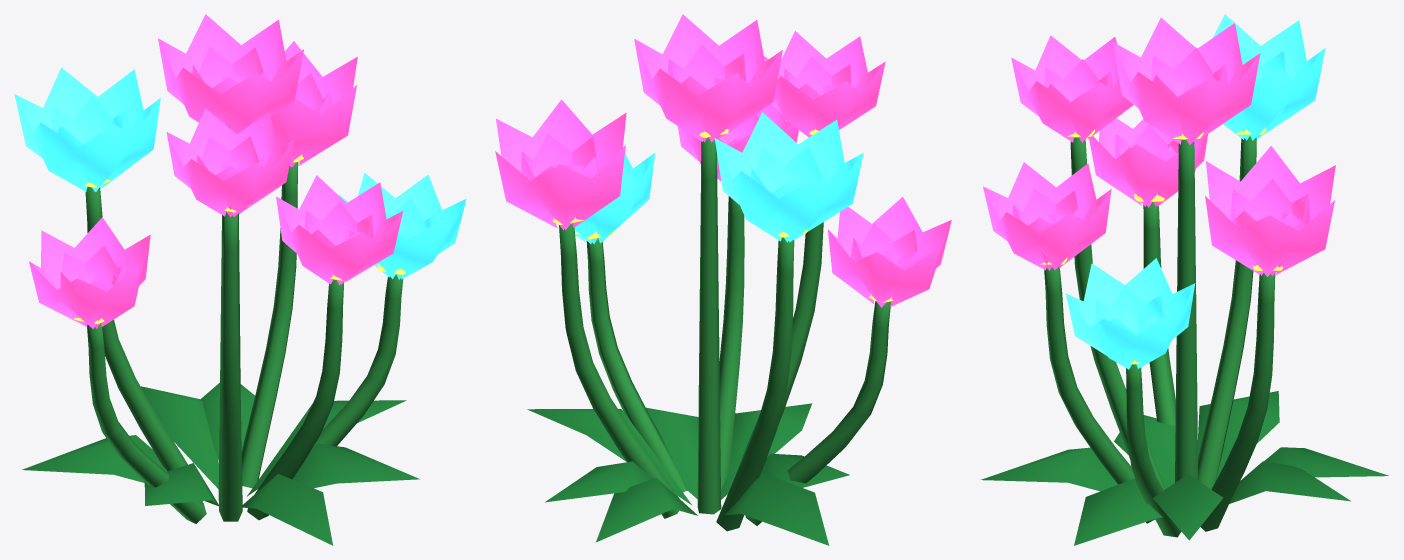
Rendered from flower_cluster_a.glb.
The picture shows the model from 3 angles, left to right: view 1: azimuth 30°, elevation 25°; view 2: azimuth 150°, elevation 25°; view 3: azimuth 270°, elevation 25°; orthographic projection.
Visible parts, largest first — view 1: flower_cluster_a_mesh; view 2: flower_cluster_a_mesh; view 3: flower_cluster_a_mesh.
Part boxes in pixels (x1=…): flower_cluster_a_mesh: x1=14, y1=14, x2=466, y2=545; flower_cluster_a_mesh: x1=495, y1=14, x2=951, y2=545; flower_cluster_a_mesh: x1=981, y1=14, x2=1388, y2=545.
Bounding box in the file's own units: 0.5296 × 0.5734 × 0.4541.
